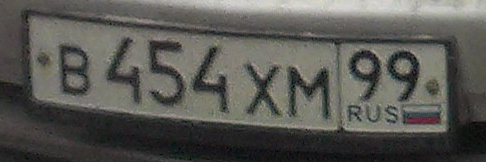character: (191, 34, 237, 116), (100, 33, 146, 106), (286, 58, 334, 126), (145, 34, 189, 108), (240, 58, 285, 122), (384, 44, 424, 104), (347, 44, 385, 106), (57, 39, 94, 100)
